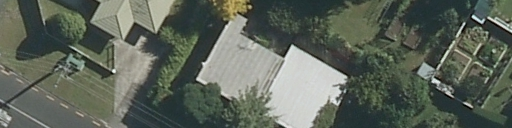DT: (50, 55, 76, 89)
